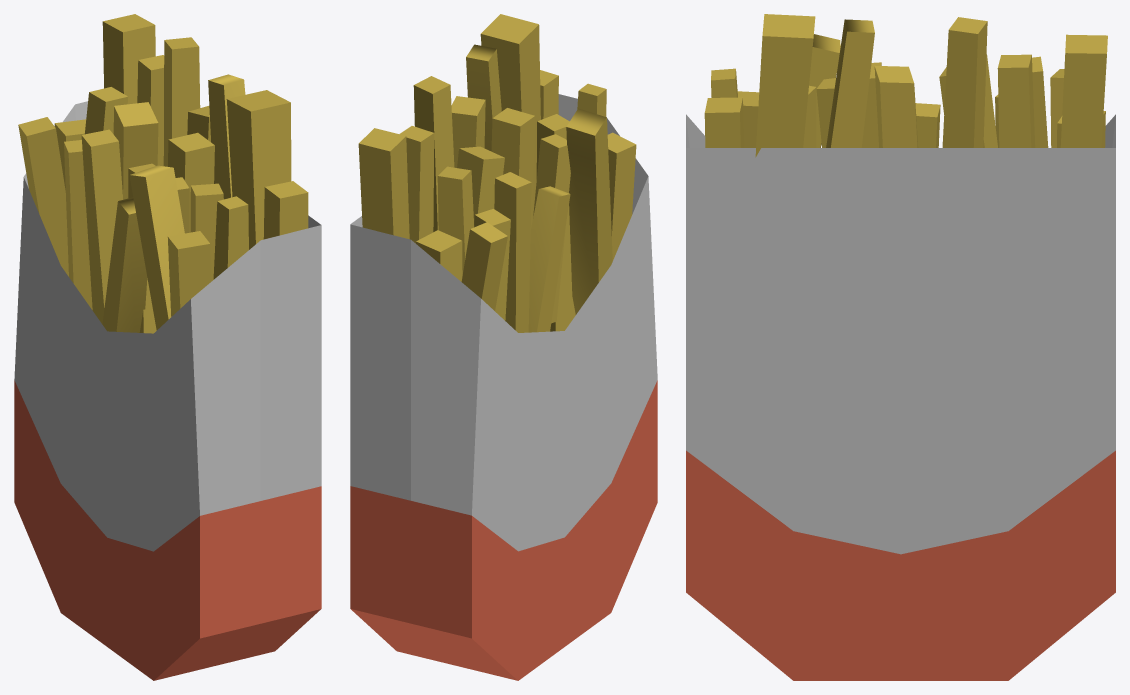
The model's file is Fried Patatoes.fbx.
3 renders of one model, left to right at view 1: azimuth 30°, elevation 25°; view 2: azimuth 150°, elevation 25°; view 3: azimuth 270°, elevation 25°, orthographic. The views are drawn at different scales.
Parts seen in each view (by area): view 1: Patatoe_box, Fried_potatoes, Patatoe_box.001; view 2: Patatoe_box, Fried_potatoes, Patatoe_box.001; view 3: Patatoe_box, Patatoe_box.001, Fried_potatoes.
Boxes of the visible parts, x1=… form: Patatoe_box: x1=14, y1=101, x2=321, y2=551; Fried_potatoes: x1=18, y1=14, x2=308, y2=333; Patatoe_box.001: x1=14, y1=380, x2=321, y2=680; Patatoe_box: x1=350, y1=94, x2=657, y2=551; Fried_potatoes: x1=358, y1=14, x2=636, y2=332; Patatoe_box.001: x1=350, y1=380, x2=657, y2=680; Patatoe_box: x1=686, y1=114, x2=1115, y2=554; Patatoe_box.001: x1=686, y1=450, x2=1115, y2=680; Fried_potatoes: x1=704, y1=14, x2=1107, y2=157.
Bounding box in the file's own units: 78.8 × 309 × 187.
